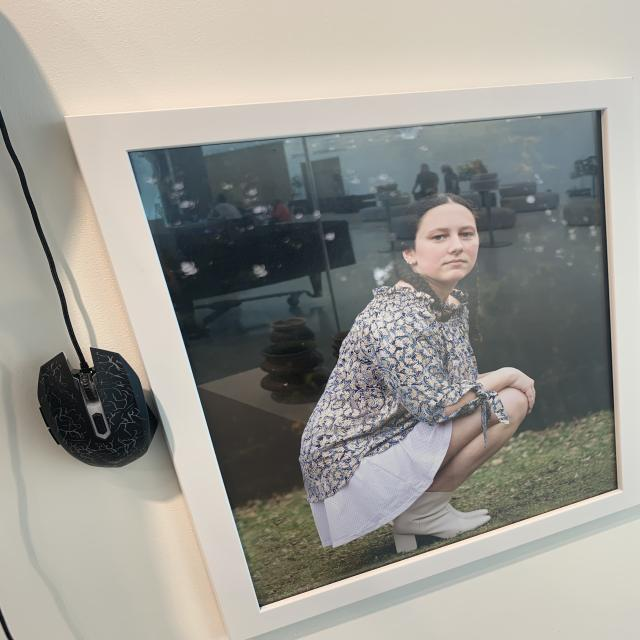Mouse: (28, 342, 170, 485)
